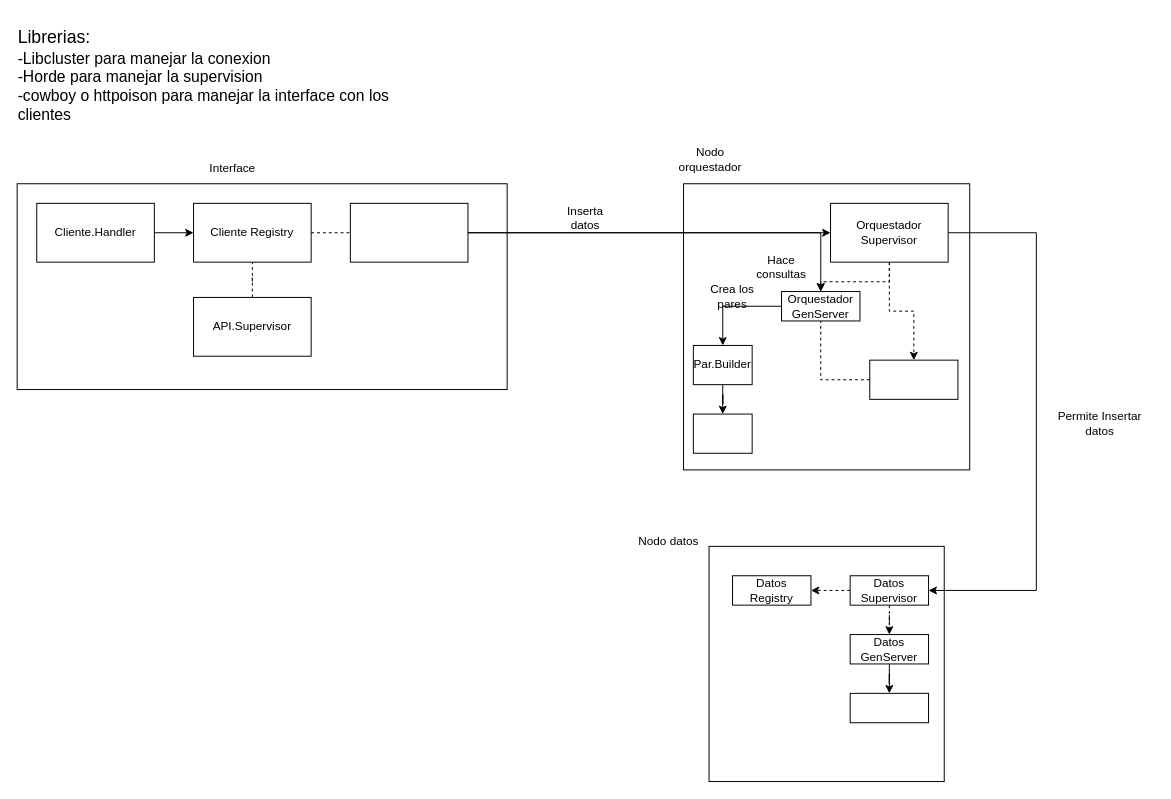
This 1171x799 diagram has some shape labels left out. Here are the shapes that lost their labels. From the top down, the centre of each, then its label:
[408,232]: Cliente GenServer
[913,379]: Orquestador Registry
[722,433]: Entity.Par-Clave-Valor
[889,707]: Datos.Estado
